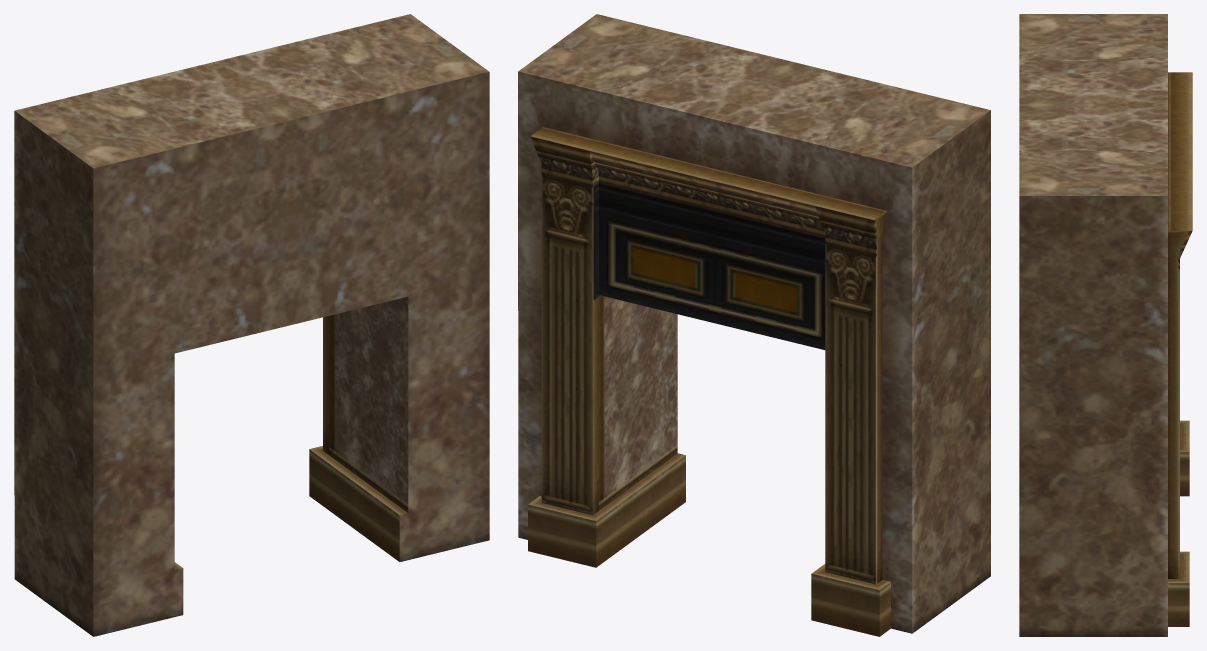
Rendered from furni_0200324_03.FBX.
3 renders of one model, left to right at view 1: azimuth 30°, elevation 25°; view 2: azimuth 150°, elevation 25°; view 3: azimuth 270°, elevation 25°, orthographic. The views are drawn at different scales.
Visible parts, largest first — view 1: furni_0200324_03; view 2: furni_0200324_03; view 3: furni_0200324_03.
Boxes of the visible parts, box(x1,y1,x2,y2) form: furni_0200324_03: box(14, 14, 489, 636); furni_0200324_03: box(518, 14, 990, 636); furni_0200324_03: box(1019, 14, 1192, 636).
Bounding box in the file's own units: 160 × 181 × 64.4.
